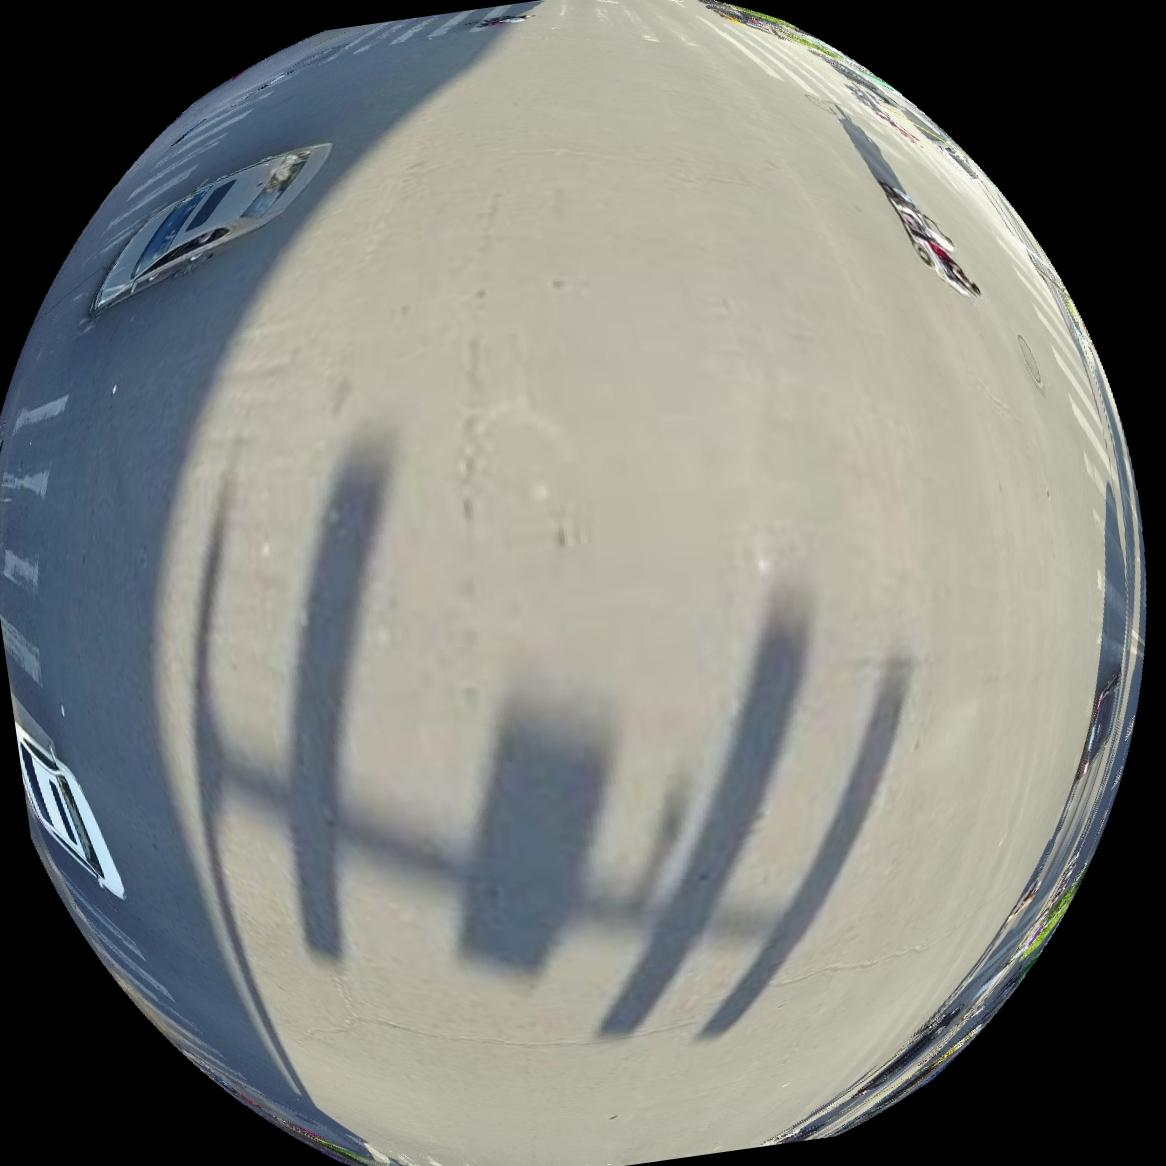cars: (89, 143, 329, 314), (14, 722, 121, 899)
